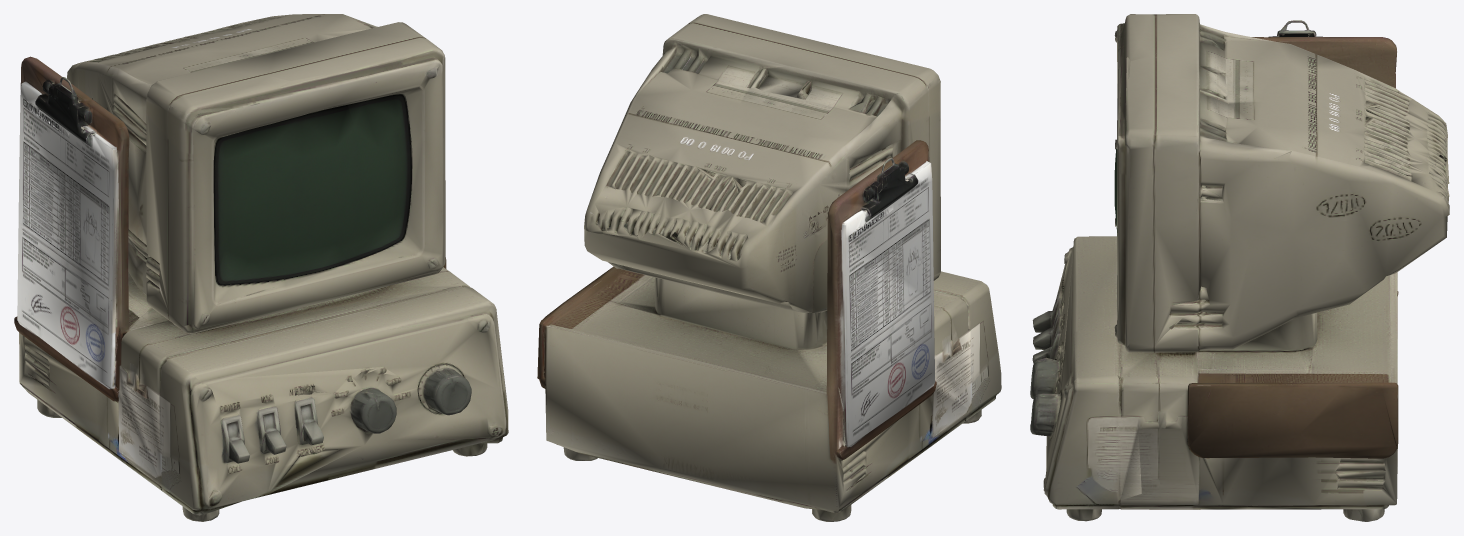
Rendered from Console.glb.
3 renders of one model, left to right at view 1: azimuth 30°, elevation 25°; view 2: azimuth 150°, elevation 25°; view 3: azimuth 270°, elevation 25°, orthographic. The views are drawn at different scales.
Parts seen in each view (by area): view 1: Mesh_0; view 2: Mesh_0; view 3: Mesh_0.
Part boxes in pixels (<box>): Mesh_0: <box>14,14,508,521</box>; Mesh_0: <box>537,14,1001,521</box>; Mesh_0: <box>1030,14,1449,521</box>.
Bounding box in the file's own units: 1.71 × 1.91 × 1.91.
Materials: 1 (1 with a texture image).
